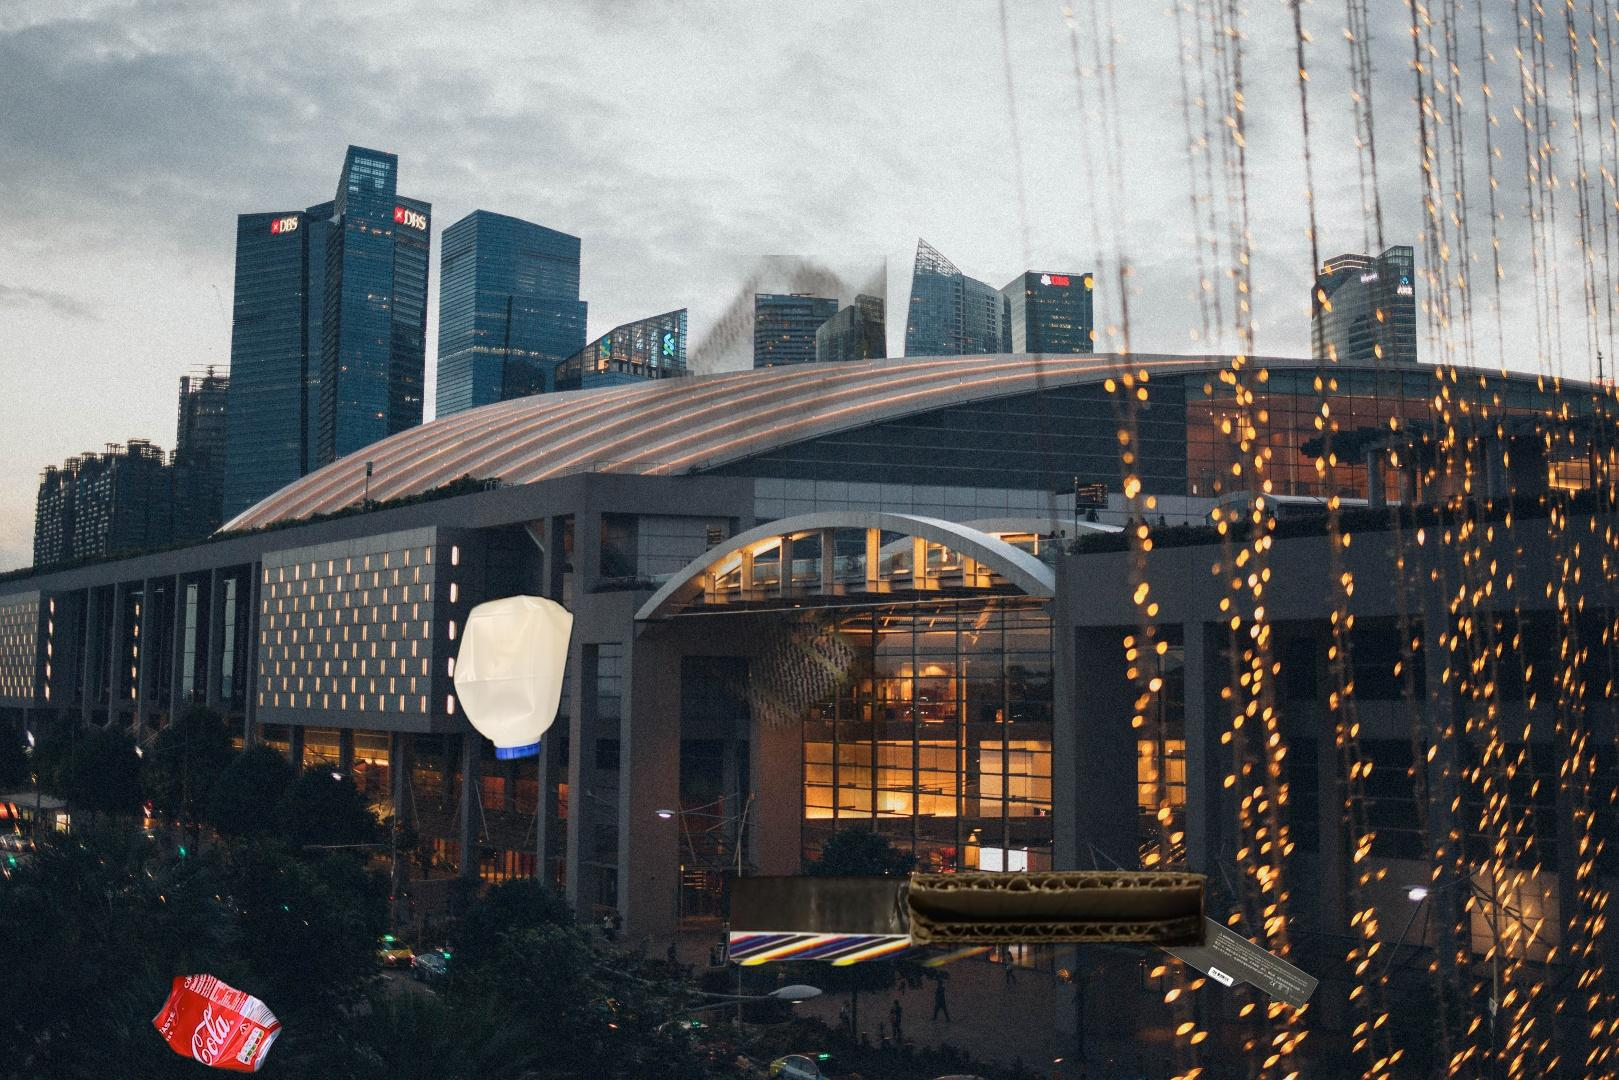battery: (1096, 865, 1321, 1012)
metal-cans: (146, 967, 286, 1079)
plastic-bottles: (375, 255, 887, 938)
trashbox-cardboard: (730, 866, 1242, 973)
